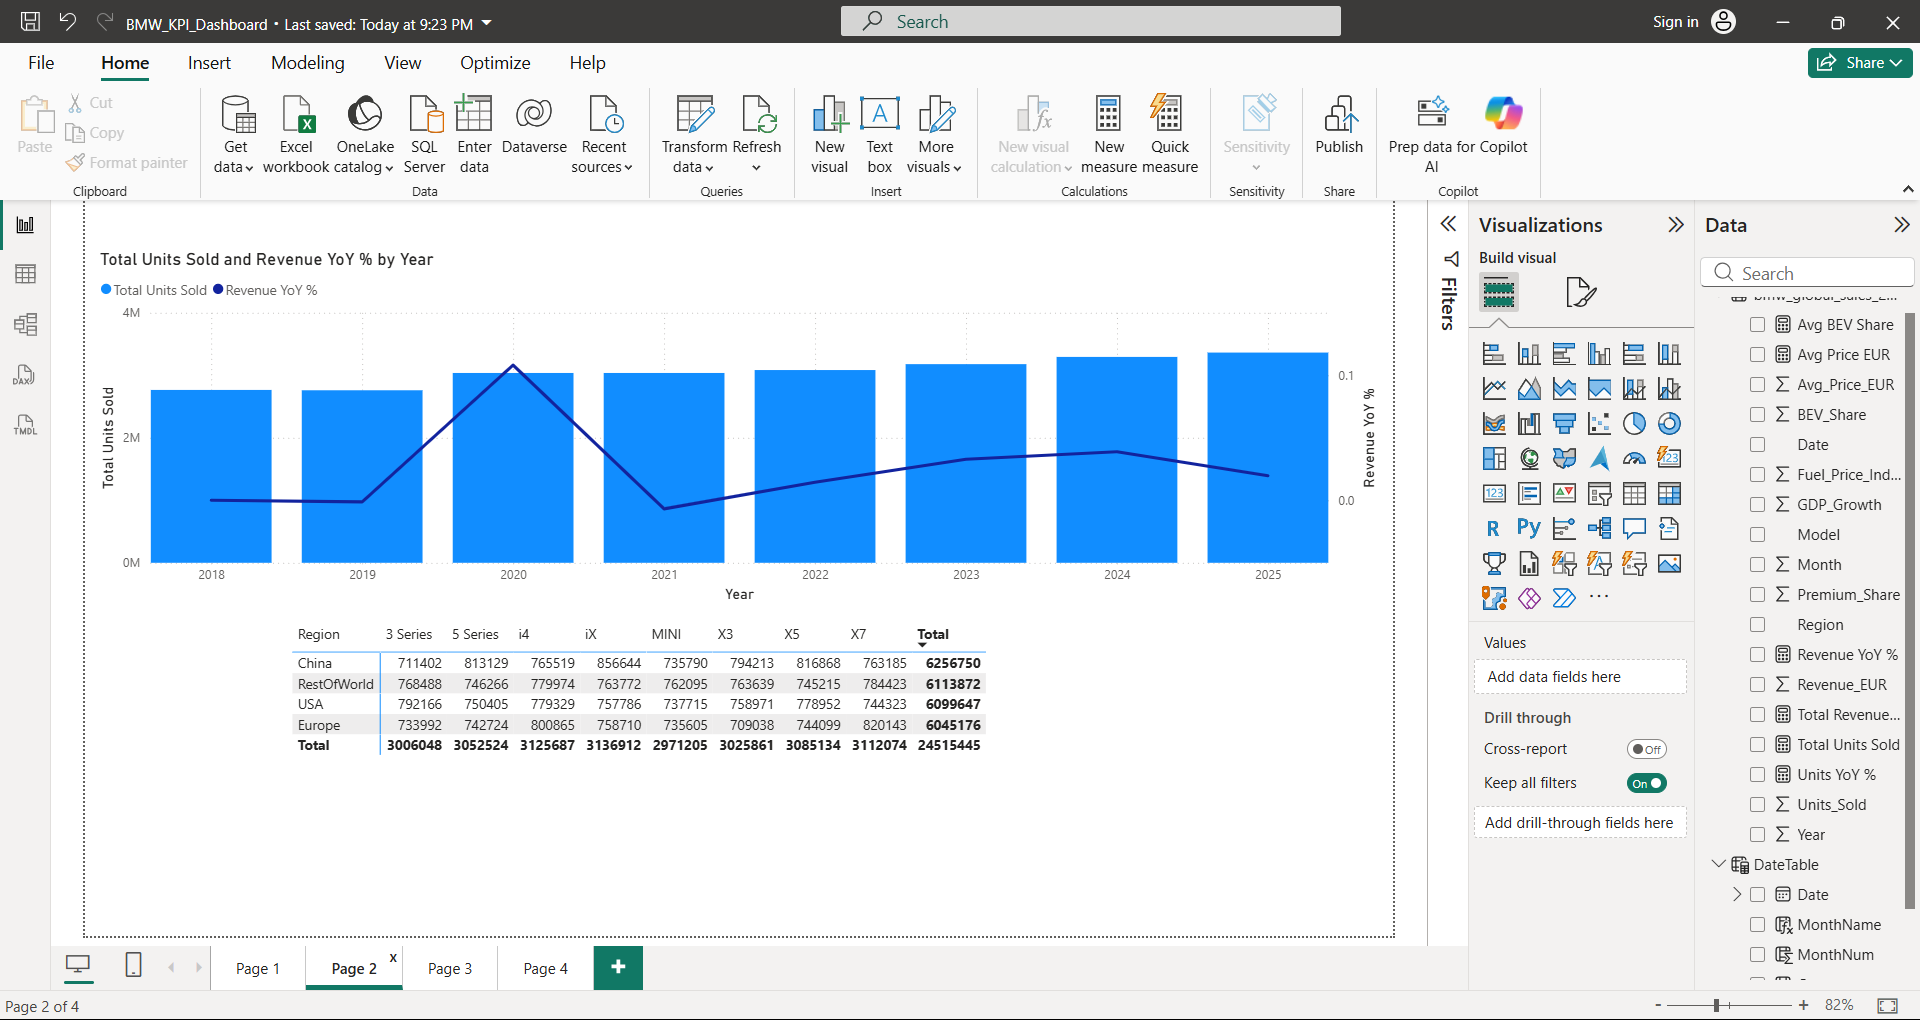

Layout of this report page (visuals, bound fields, positions):
{"tool":"powerbi","page":{"name":"Page 2","canvas":[1280,720],"ordinal":1},"visuals":[{"type":"lineStackedColumnComboChart","fields":{"Y":["bmw_global_sales_2018_2025.Total Units Sold"],"Category":["bmw_global_sales_2018_2025.Year"],"Y2":["bmw_global_sales_2018_2025.Revenue YoY %"]},"box":[9.8,47.7,1259.5,351],"z":0},{"type":"pivotTable","fields":{"Rows":["bmw_global_sales_2018_2025.Region"],"Columns":["bmw_global_sales_2018_2025.Model"],"Values":["Sum(bmw_global_sales_2018_2025.Units_Sold)"]},"box":[198.1,408.4,840.1,302],"z":1000}]}

Visuals, with their boxes on the page's 1280x720 design canvas (x1, y1, x2, y2). These are canvas units, not pixel positions in the 1920x1020 screenshot, which may show the page scaled, cropped or inside an application window:
lineStackedColumnComboChart - bmw_global_sales_2018_2025.Total Units Sold x bmw_global_sales_2018_2025.Year: 10:48:1269:399
pivotTable - bmw_global_sales_2018_2025.Region x bmw_global_sales_2018_2025.Model: 198:408:1038:710
